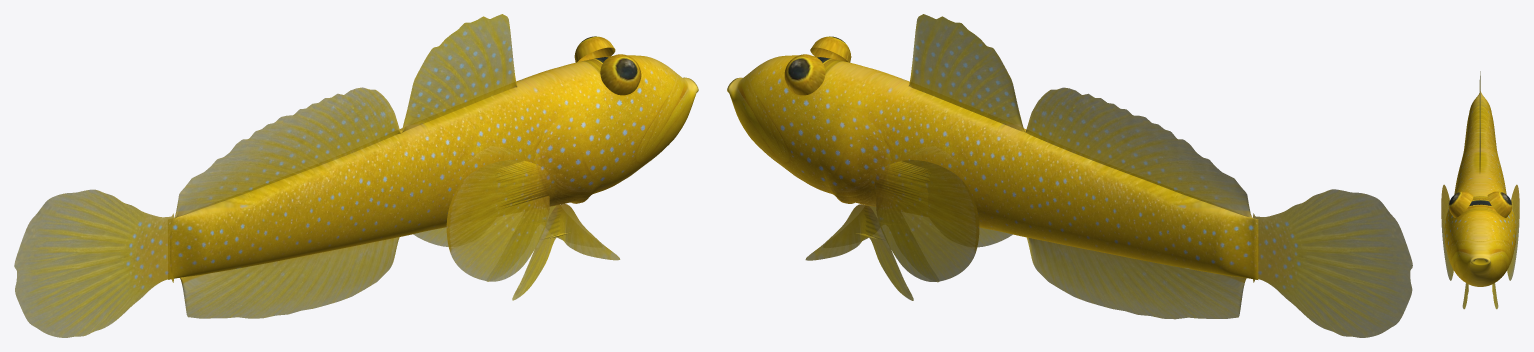
Rendered from cinctus.glb.
3 renders of one model, left to right at view 1: azimuth 30°, elevation 25°; view 2: azimuth 150°, elevation 25°; view 3: azimuth 270°, elevation 25°, orthographic. The views are drawn at different scales.
Visible parts, largest first — view 1: cinctus__body, cinctus__fin_1, cinctus__fin_0, cinctus__fin_2, cinctus__pectoral_1, cinctus__gill_1, cinctus__pelvic_1, cinctus__eye_1, cinctus__eye_-1; view 2: cinctus__body, cinctus__fin_1, cinctus__fin_0, cinctus__fin_2, cinctus__pectoral_-1, cinctus__gill_-1, cinctus__pelvic_-1, cinctus__eye_-1, cinctus__eye_1; view 3: cinctus__body, cinctus__pectoral_1, cinctus__pectoral_-1, cinctus__eye_1, cinctus__eye_-1, cinctus__fin_1, cinctus__pelvic_1, cinctus__pelvic_-1, cinctus__gill_1, cinctus__gill_-1.
Boxes of the visible parts, bbox=[...] form: cinctus__body: bbox=[168, 55, 698, 279]; cinctus__fin_1: bbox=[173, 14, 517, 219]; cinctus__fin_0: bbox=[14, 189, 173, 337]; cinctus__fin_2: bbox=[180, 237, 399, 318]; cinctus__pectoral_1: bbox=[446, 160, 550, 281]; cinctus__gill_1: bbox=[547, 104, 606, 205]; cinctus__pelvic_1: bbox=[512, 204, 620, 300]; cinctus__eye_1: bbox=[600, 54, 641, 95]; cinctus__eye_-1: bbox=[574, 36, 615, 62]; cinctus__body: bbox=[727, 55, 1258, 279]; cinctus__fin_1: bbox=[908, 14, 1252, 217]; cinctus__fin_0: bbox=[1253, 189, 1412, 337]; cinctus__fin_2: bbox=[1026, 237, 1246, 319]; cinctus__pectoral_-1: bbox=[875, 160, 979, 281]; cinctus__gill_-1: bbox=[819, 104, 878, 205]; cinctus__pelvic_-1: bbox=[805, 204, 913, 300]; cinctus__eye_-1: bbox=[784, 54, 825, 95]; cinctus__eye_1: bbox=[810, 36, 851, 62]; cinctus__body: bbox=[1445, 91, 1515, 286]; cinctus__pectoral_1: bbox=[1441, 184, 1453, 280]; cinctus__pectoral_-1: bbox=[1507, 184, 1519, 280]; cinctus__eye_1: bbox=[1449, 191, 1473, 217]; cinctus__eye_-1: bbox=[1487, 191, 1511, 217]; cinctus__fin_1: bbox=[1479, 71, 1480, 174]; cinctus__pelvic_1: bbox=[1462, 283, 1468, 309]; cinctus__pelvic_-1: bbox=[1492, 283, 1498, 309]; cinctus__gill_1: bbox=[1444, 192, 1456, 249]; cinctus__gill_-1: bbox=[1504, 192, 1516, 249].
Bounding box in the file's own units: 1.3 × 0.5116 × 0.1875.
5 materials, 5 textured.
